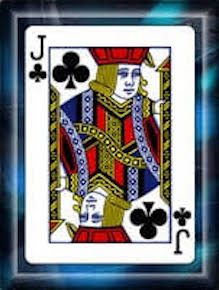JackOfClubs: (16, 20, 199, 270)
